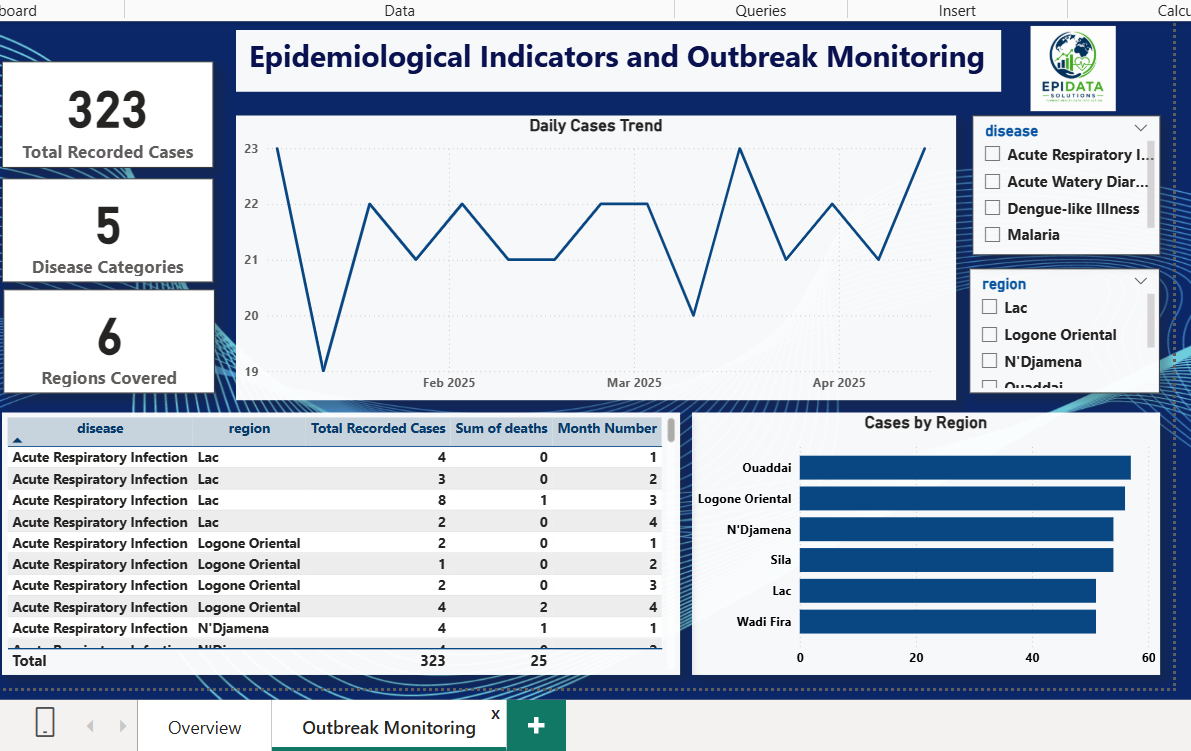

This screenshot's page, from the dashboard's own definition file:
{"tool":"powerbi","page":{"name":"Outbreak Monitoring","canvas":[1280,720],"ordinal":1},"visuals":[{"type":"lineChart","title":"Daily Cases Trend","fields":{"Category":["Calendar.Date"],"Y":["HealthCases.Total Recorded Cases"]},"box":[268.8,102,777.2,307.7],"z":0},{"type":"barChart","title":"Cases by Region","fields":{"Category":["HealthCases.region"],"Y":["HealthCases.Total Recorded Cases"]},"box":[761,422.6,505.2,283.4],"z":1000},{"type":"tableEx","fields":{"Values":["HealthCases.disease","HealthCases.region","HealthCases.Total Recorded Cases","Sum(HealthCases.deaths)","Calendar.Month Number"]},"box":[16.2,422.6,731.9,283.4],"z":2000},{"type":"card","fields":{"Values":["HealthCases.Total Recorded Cases"]},"box":[16.2,43.7,228.3,115],"z":3000},{"type":"card","fields":{"Values":["HealthCases.Disease Categories"]},"box":[16.2,170,228.3,111.7],"z":4000},{"type":"card","fields":{"Values":["HealthCases.Regions Covered"]},"box":[17.8,289.8,228.3,111.7],"z":5000},{"type":"slicer","fields":{"Values":["HealthCases.region"]},"box":[1060.6,267.2,205.6,134.4],"z":6000},{"type":"slicer","fields":{"Values":["HealthCases.disease"]},"box":[1063.8,102,202.4,150.6],"z":7000},{"type":"image","box":[1063.8,0,217,102],"z":8000},{"type":"textbox","box":[268.8,9.7,825.8,66.4],"z":9000}]}

Visuals, with their boxes in screenshot pixels (x1, y1, x2, y2):
"Daily Cases Trend" lineChart: locate(237, 115, 951, 398)
"Cases by Region" barChart: locate(689, 409, 1153, 670)
tableEx - HealthCases.disease x HealthCases.region: locate(6, 409, 677, 670)
card - HealthCases.Total Recorded Cases: locate(6, 62, 215, 167)
card - HealthCases.Disease Categories: locate(6, 178, 215, 280)
card - HealthCases.Regions Covered: locate(7, 288, 217, 390)
slicer - HealthCases.region: locate(964, 267, 1153, 390)
slicer - HealthCases.disease: locate(967, 115, 1153, 253)
image: locate(967, 22, 1166, 115)
textbox: locate(237, 31, 995, 92)
